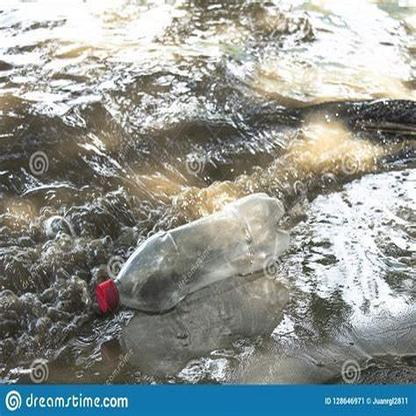plastic bottle: (96, 192, 289, 310)
